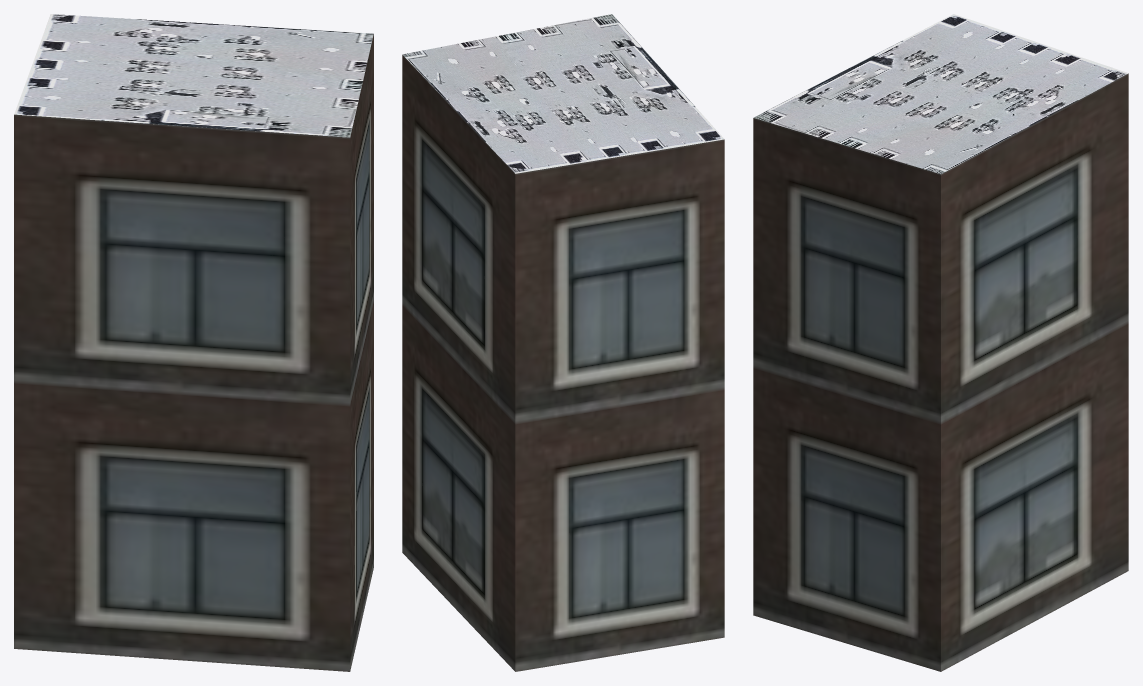
Rendered from ResTex__1119.fbx.
The picture shows the model from 3 angles, left to right: view 1: azimuth 30°, elevation 25°; view 2: azimuth 150°, elevation 25°; view 3: azimuth 270°, elevation 25°; orthographic projection. The views are drawn at different scales.
Parts seen in each view (by area): view 1: CityEngineMaterial_16_m, CityEngineMaterial_15_m; view 2: CityEngineMaterial_16_m, CityEngineMaterial_15_m; view 3: CityEngineMaterial_16_m, CityEngineMaterial_15_m.
Boxes of the visible parts, x1=… form: CityEngineMaterial_16_m: x1=14, y1=34, x2=373, y2=671; CityEngineMaterial_15_m: x1=14, y1=14, x2=373, y2=137; CityEngineMaterial_16_m: x1=402, y1=55, x2=724, y2=671; CityEngineMaterial_15_m: x1=402, y1=14, x2=724, y2=173; CityEngineMaterial_16_m: x1=753, y1=73, x2=1128, y2=671; CityEngineMaterial_15_m: x1=753, y1=14, x2=1128, y2=174.
Size of the model in its own units: 4.15 by 6 by 4.1.
2 materials, 2 textured.
